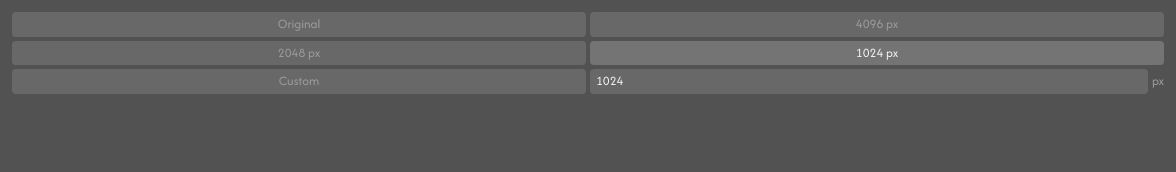
ResolutionControl › clamps committed values and normalises the field
The width and height of the screenshot is (1176, 172).
Step 1. Replace the text in the number field named "custom long edge" with "5" → x=869, y=81, box [590,69,1148,94]
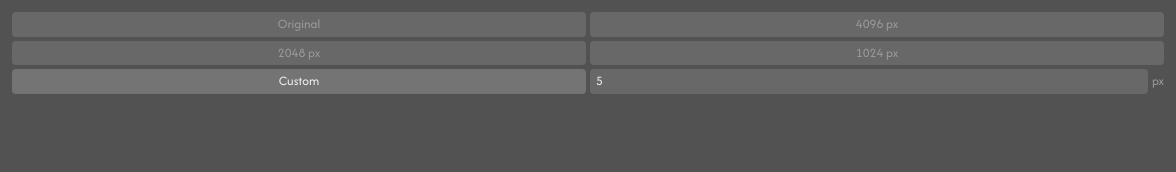
Step 2. Leave the number field named "custom long edge", box [590,69,1148,94]
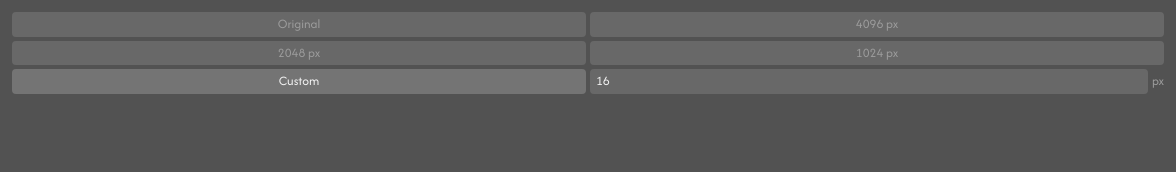
Expected: the number field named "custom long edge" holds "16", [590,69,1148,94]
